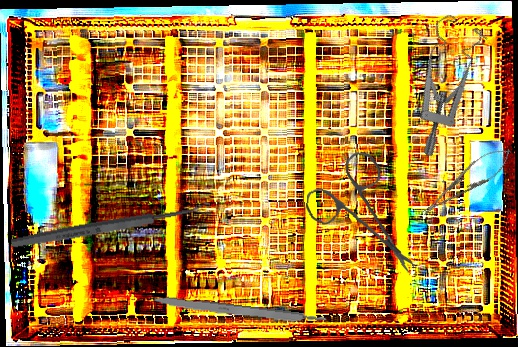Iris Scissors: (301, 147, 424, 275)
Needle Holder: (415, 139, 518, 224)
Scalpel Handle: (146, 293, 330, 329)
Speculum: (368, 6, 512, 159)
Surgical Spoon: (10, 201, 212, 251)
